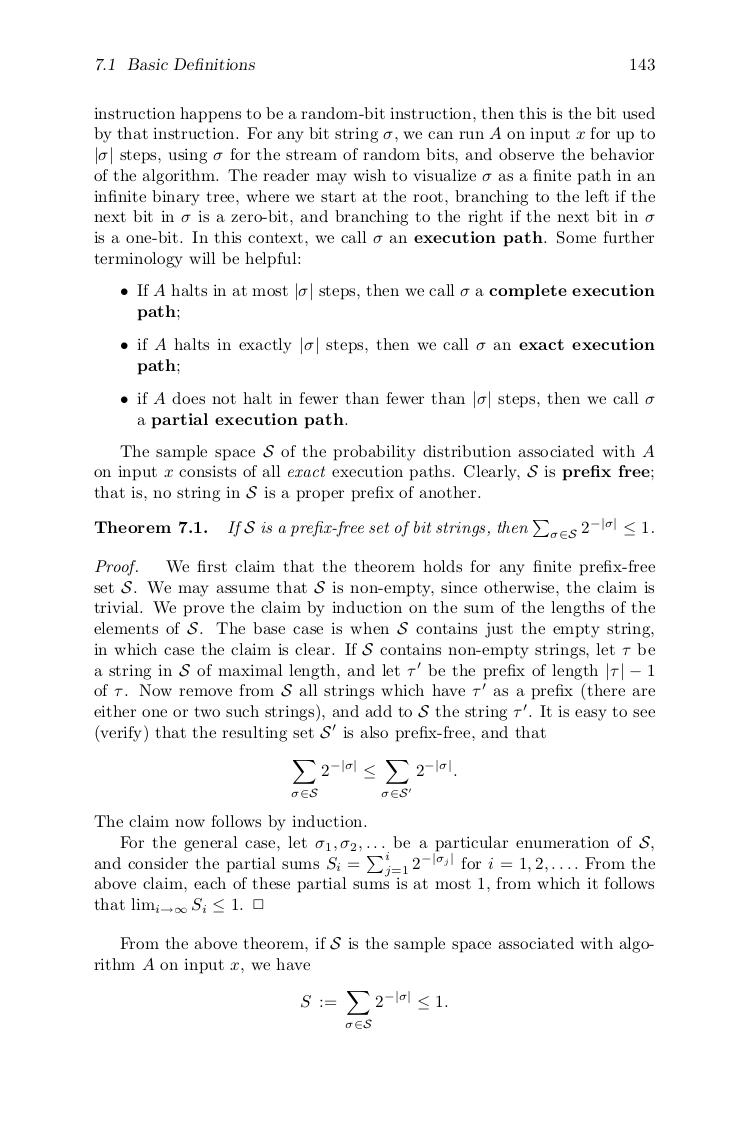formula: (291, 760, 456, 797), (301, 991, 447, 1028)
